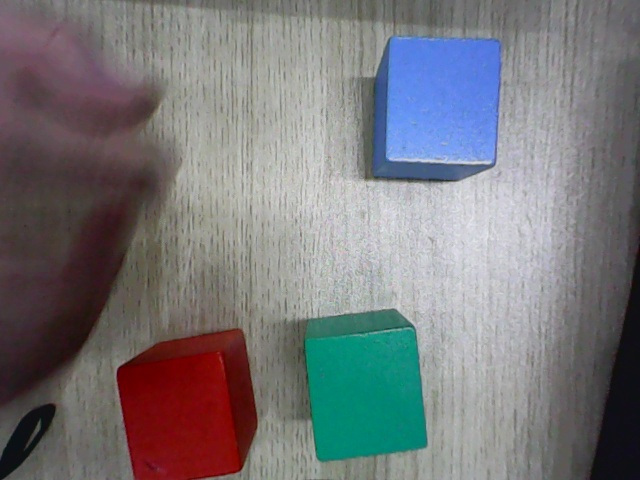upside of big cube: (303, 325, 429, 462), (115, 351, 241, 479), (385, 38, 502, 166)
